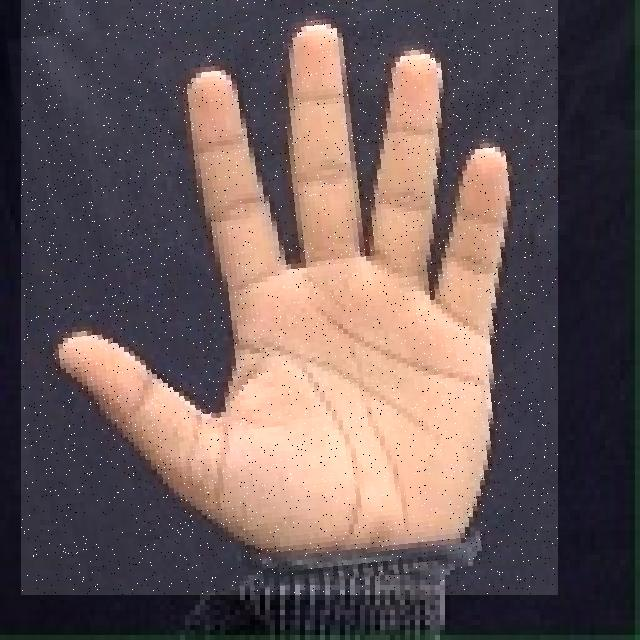Yes: (21, 0, 558, 595)
